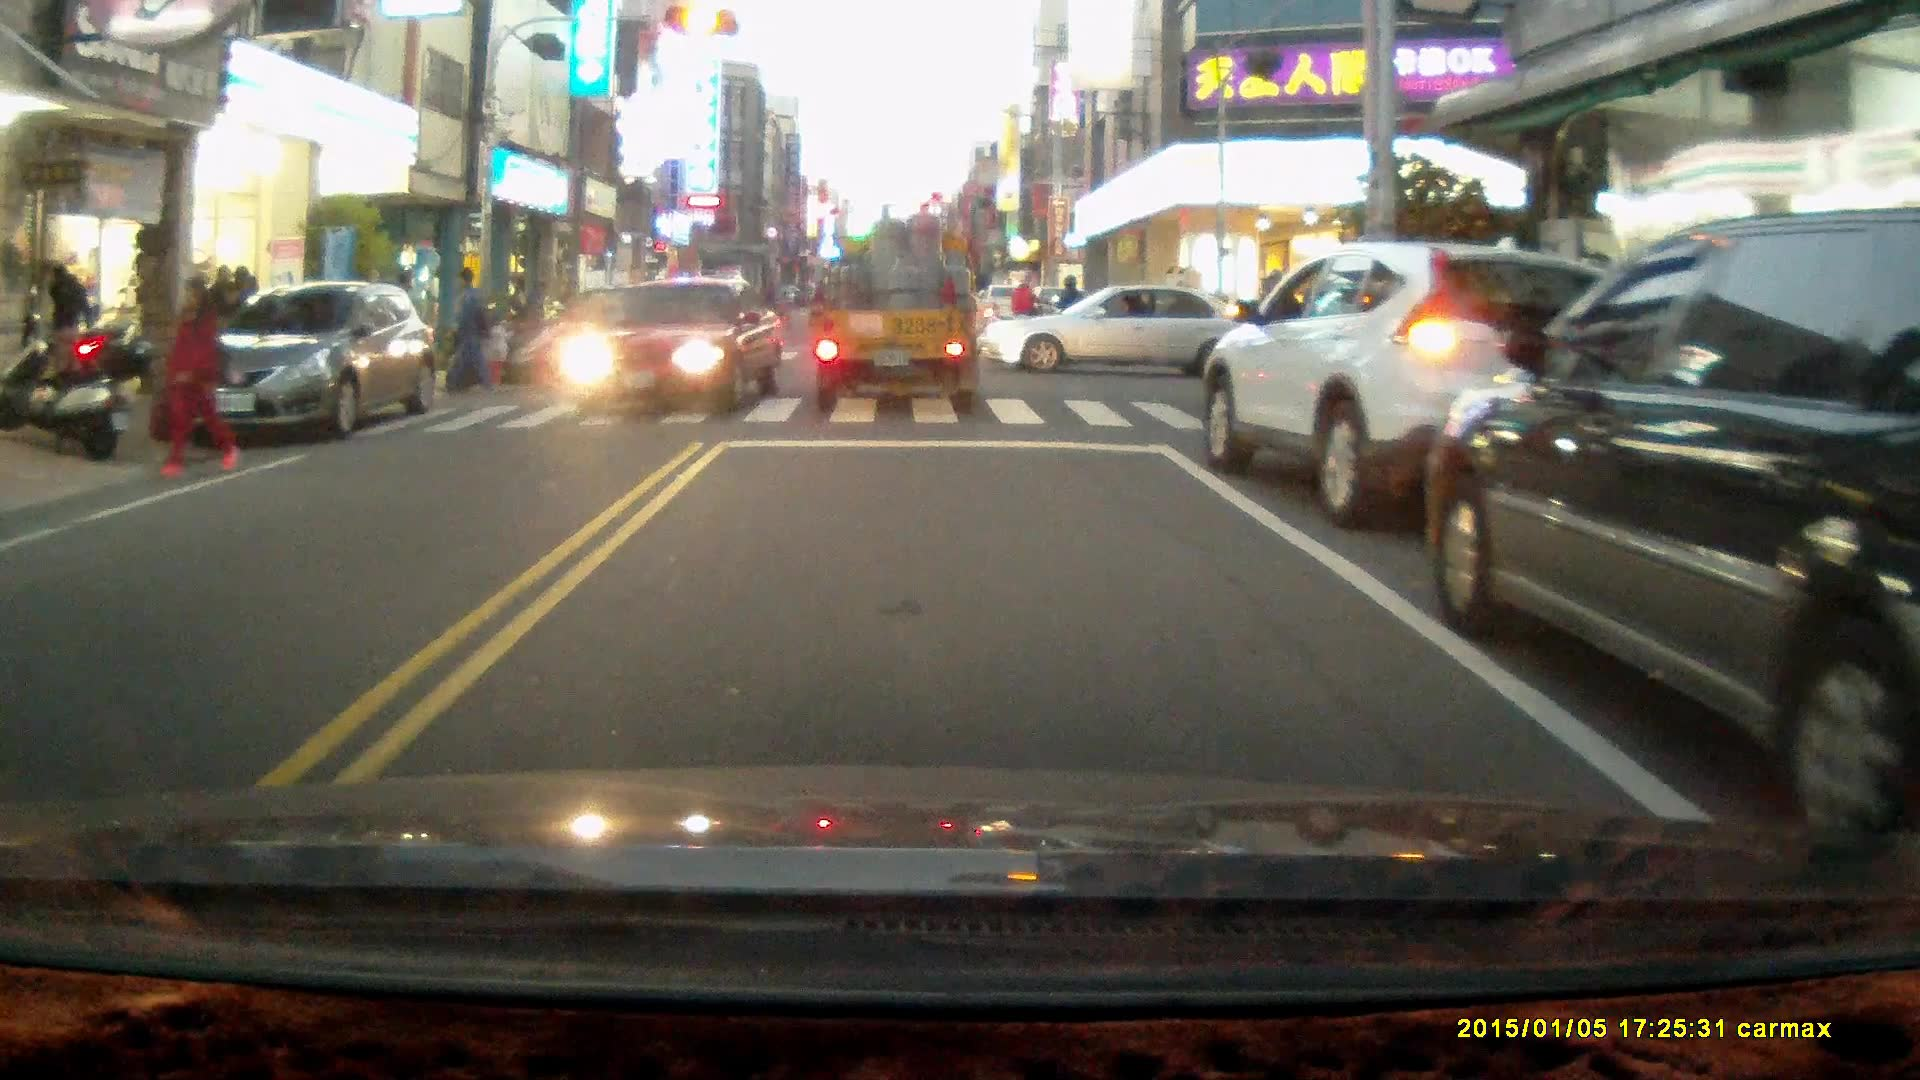pedestrian: (152, 273, 238, 478), (443, 266, 496, 401), (44, 262, 92, 388), (483, 316, 512, 383)
rider: (981, 266, 1067, 356)
vehicle: (1431, 210, 1920, 829), (1202, 246, 1667, 531), (178, 286, 432, 454), (812, 198, 986, 427), (558, 279, 786, 420), (991, 288, 1271, 385)
